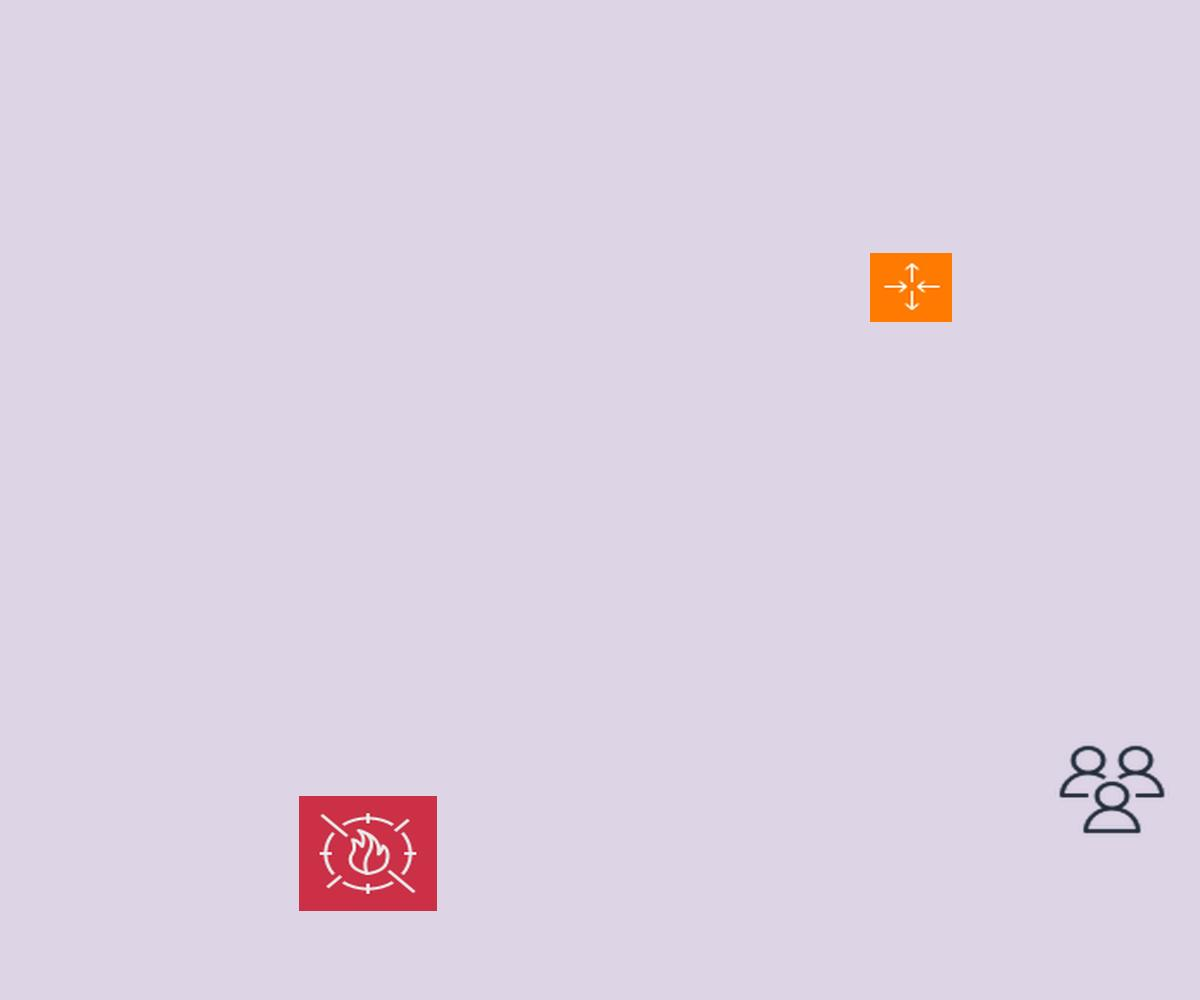AWS-Res_Users: (1055, 742, 1169, 837)
AWS-Scaling-group: (870, 253, 952, 322)
AWS-WAF: (299, 796, 437, 911)
